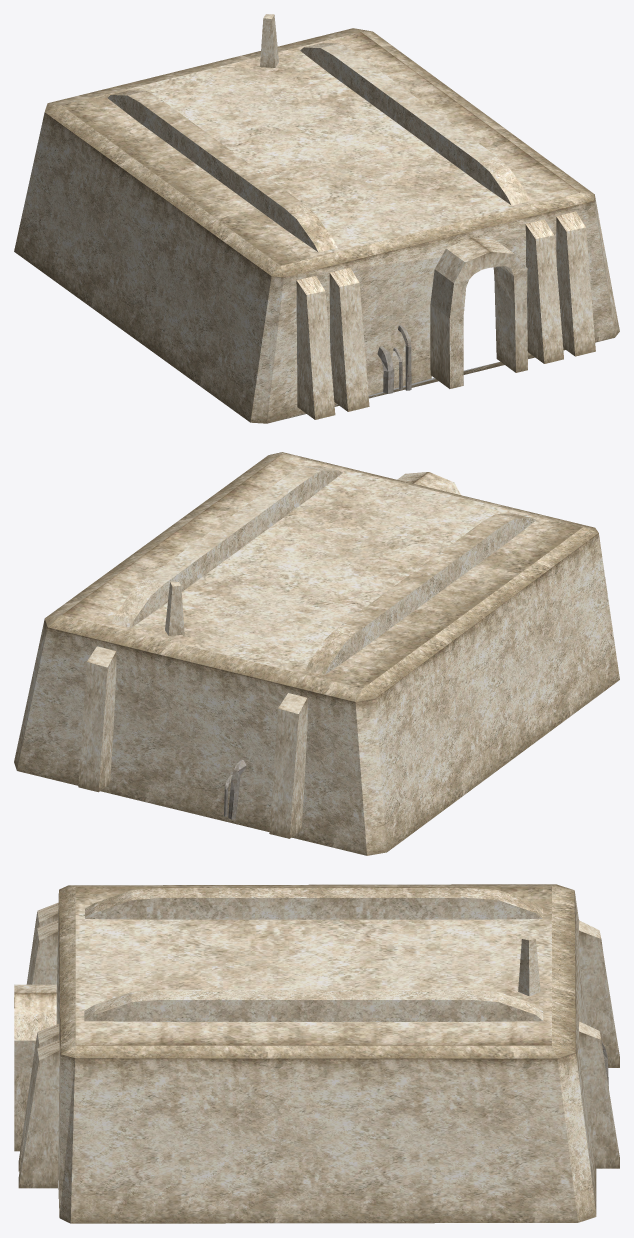
File: thm_tato_house_sml_s01_fp1_r0_mesh_l1.fbx
3 views of the same model, one above another, from view 1: azimuth 30°, elevation 25°; view 2: azimuth 150°, elevation 25°; view 3: azimuth 270°, elevation 25° (orthographic). The views are drawn at different scales.
Parts seen in each view (by area): view 1: mesh_node; view 2: mesh_node; view 3: mesh_node.
Boxes of the visible parts, bbox=[...] form: mesh_node: bbox=[14, 14, 619, 423]; mesh_node: bbox=[14, 452, 619, 855]; mesh_node: bbox=[14, 884, 619, 1223].
Size of the model in its own units: 12.52 by 6.28 by 16.25.
